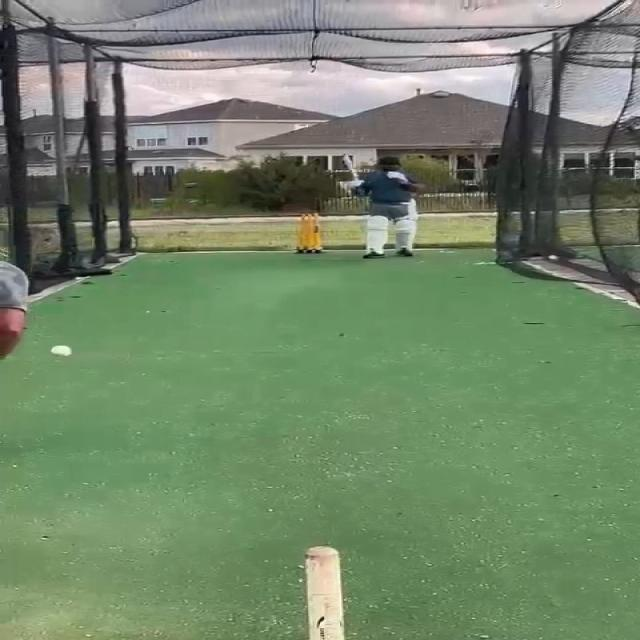batsman: (337, 151, 427, 260)
